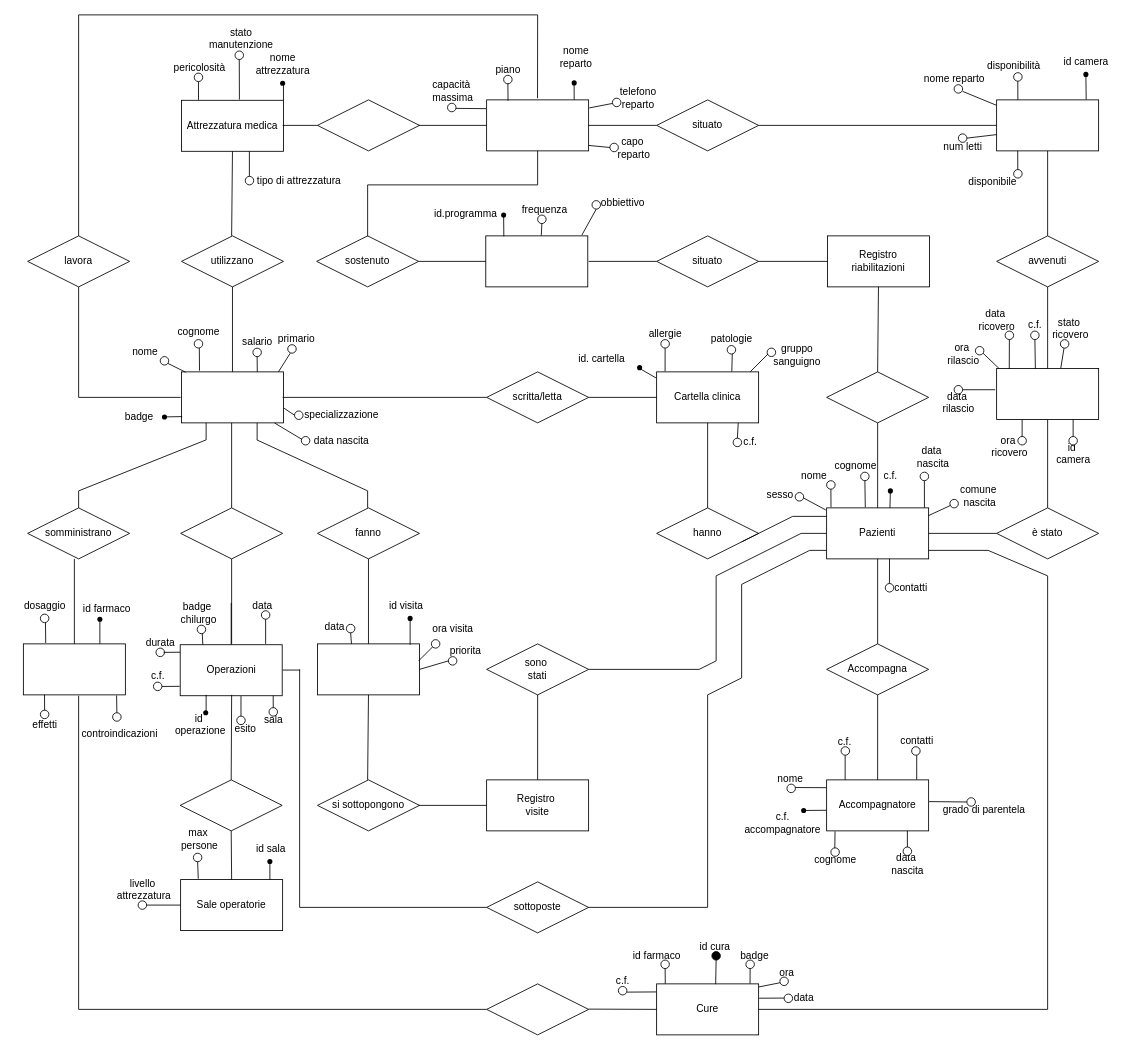
Image size: 1134x1050. Some labels were removed from this diagram. The shapes that lost their labels are listed below. From the top down, each one's box as (x1, y1, x2, y2) in pixels, then its label:
(317, 99, 419, 151): situate
(486, 99, 589, 151): Reparti
(996, 99, 1099, 151): Camere
(485, 235, 588, 287): Riabilitazione
(181, 371, 283, 423): Personale medico
(826, 371, 929, 423): partecipano
(996, 368, 1099, 419): Ricoveri
(180, 507, 283, 559): operano
(23, 643, 125, 695): Farmaci
(317, 643, 419, 695): Visiti prenotate
(179, 779, 282, 831): fatte
(486, 983, 589, 1035): ricevono
